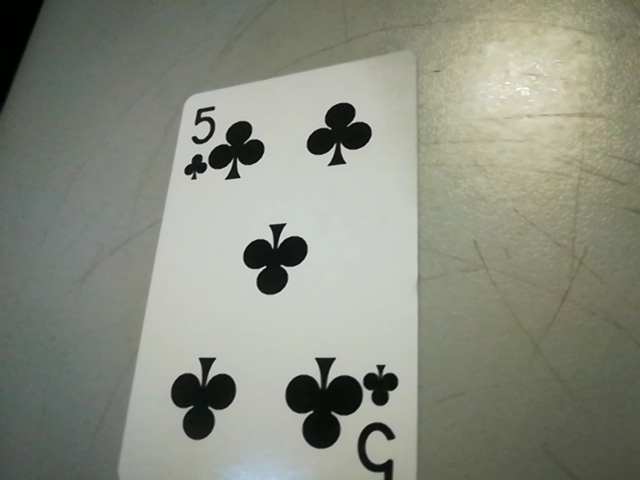mh 5: (353, 358, 416, 480)
